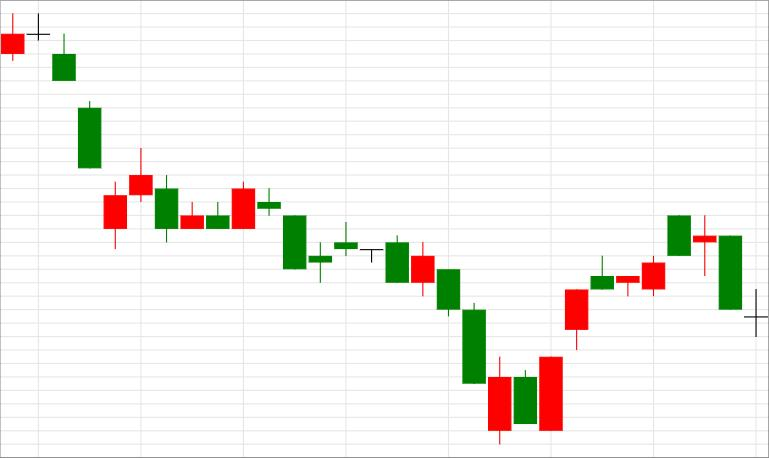bullish_engulfing_rise: (334, 222, 563, 446)
